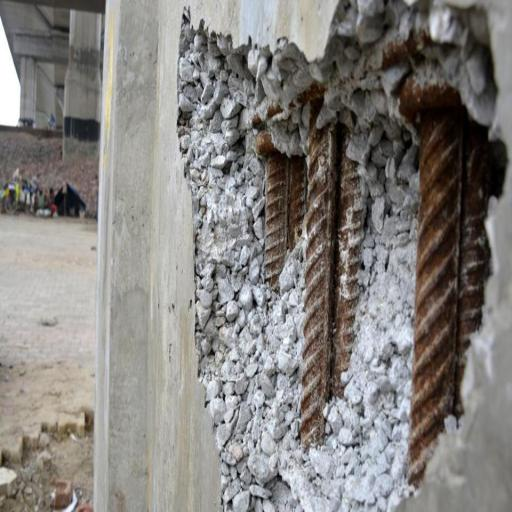spalling: (185, 13, 500, 508)
